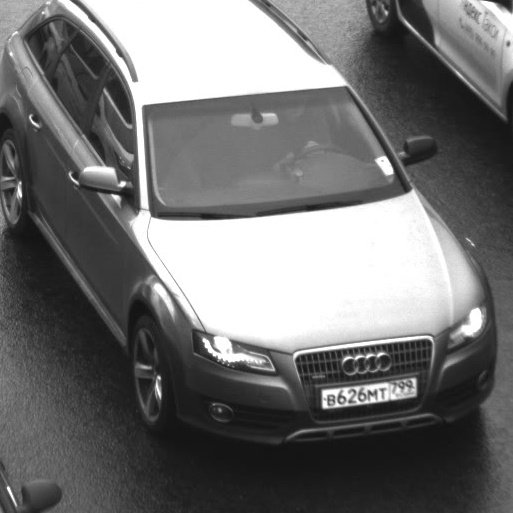plate: (308, 365, 424, 416)
